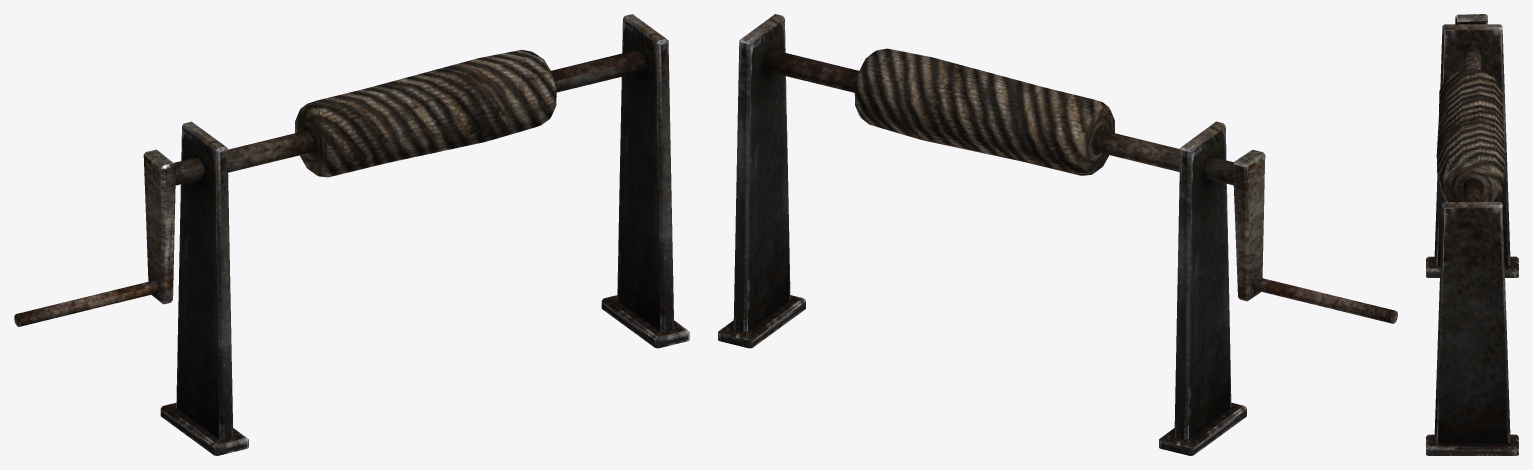
File: crank_wheel.dae
The picture shows the model from 3 angles, left to right: view 1: azimuth 30°, elevation 25°; view 2: azimuth 150°, elevation 25°; view 3: azimuth 270°, elevation 25°; orthographic projection. The views are drawn at different scales.
Visible parts, largest first — view 1: polySurface6, polySurface3; view 2: polySurface6, polySurface3; view 3: polySurface6, polySurface3.
Boxes of the visible parts, x1,y1,x2,y2 form: polySurface6: [160, 14, 689, 455]; polySurface3: [14, 49, 645, 326]; polySurface6: [718, 14, 1246, 455]; polySurface3: [762, 48, 1397, 323]; polySurface6: [1426, 24, 1518, 455]; polySurface3: [1436, 14, 1505, 201].
Size of the model in its own units: 1.5 by 0.6667 by 0.2239.
